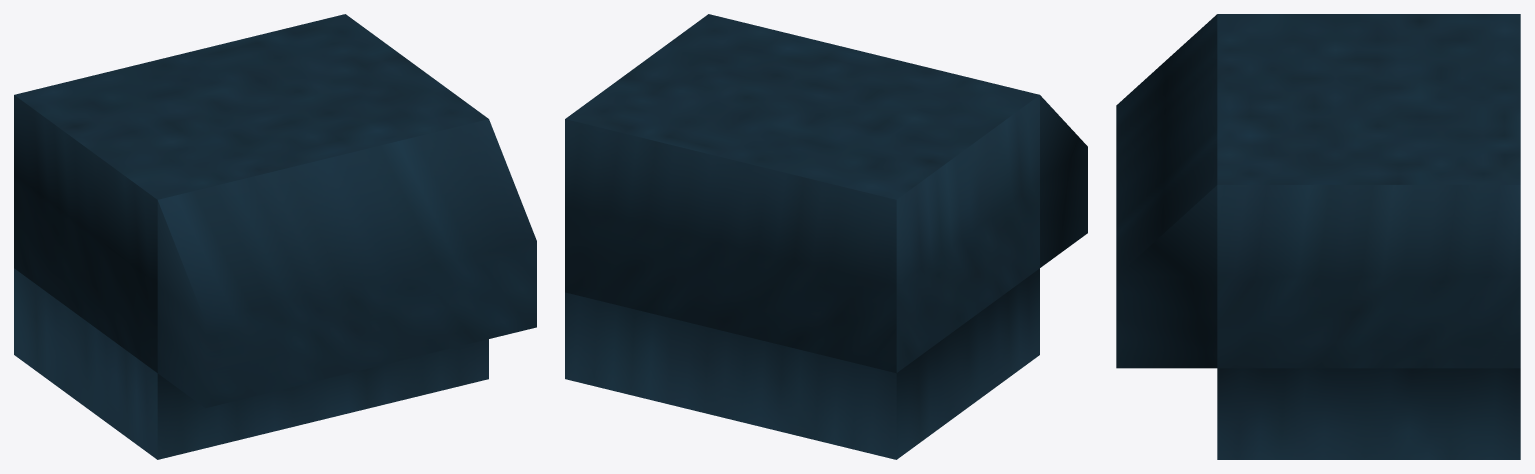
The picture shows the model from 3 angles, left to right: view 1: azimuth 30°, elevation 25°; view 2: azimuth 150°, elevation 25°; view 3: azimuth 270°, elevation 25°; orthographic projection. The views are drawn at different scales.
Size of the model in its own units: 0.2 by 0.15 by 0.2.
1 material, 1 textured.
